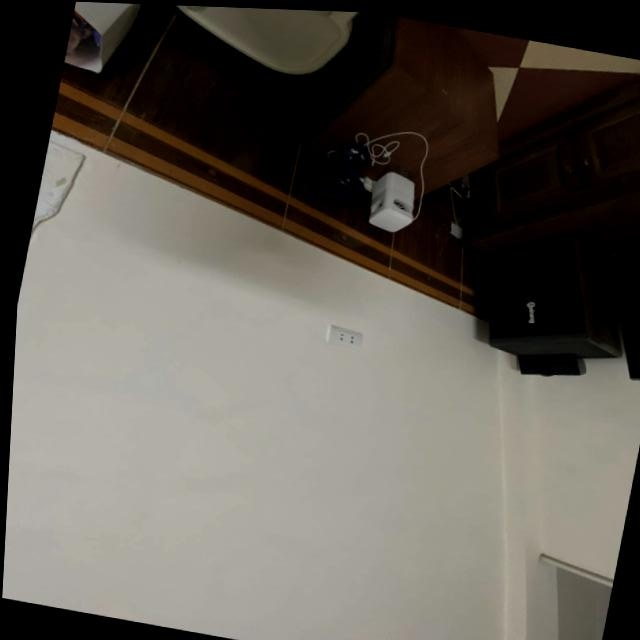outlet: (326, 325, 365, 351)
